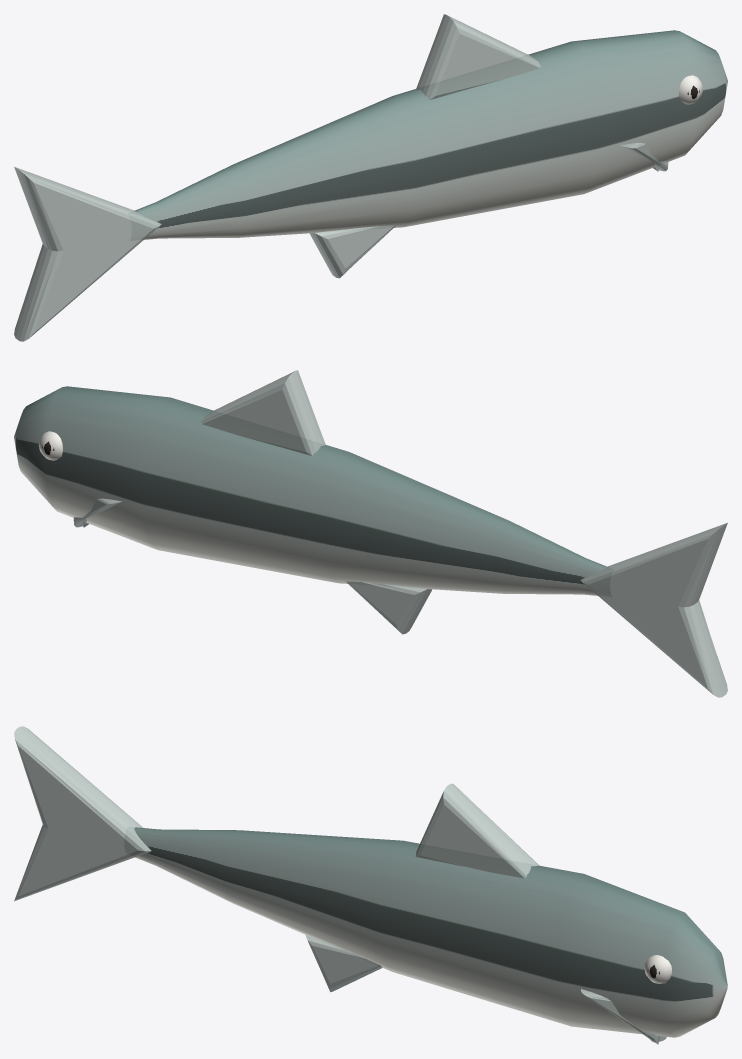
Rendered from minnow.glb.
3 renders of one model, top to bottom at view 1: azimuth 30°, elevation 25°; view 2: azimuth 150°, elevation 25°; view 3: azimuth 330°, elevation 25°, orthographic.
Parts seen in each view (by area): view 1: fish; view 2: fish; view 3: fish.
Boxes of the visible parts, x1=… form: fish: x1=14, y1=14, x2=727, y2=341; fish: x1=14, y1=370, x2=727, y2=697; fish: x1=14, y1=726, x2=727, y2=1044.
Bounding box in the file's own units: 0.1065 × 0.0334 × 0.0121.
Materials: 4 (1 with a texture image).
